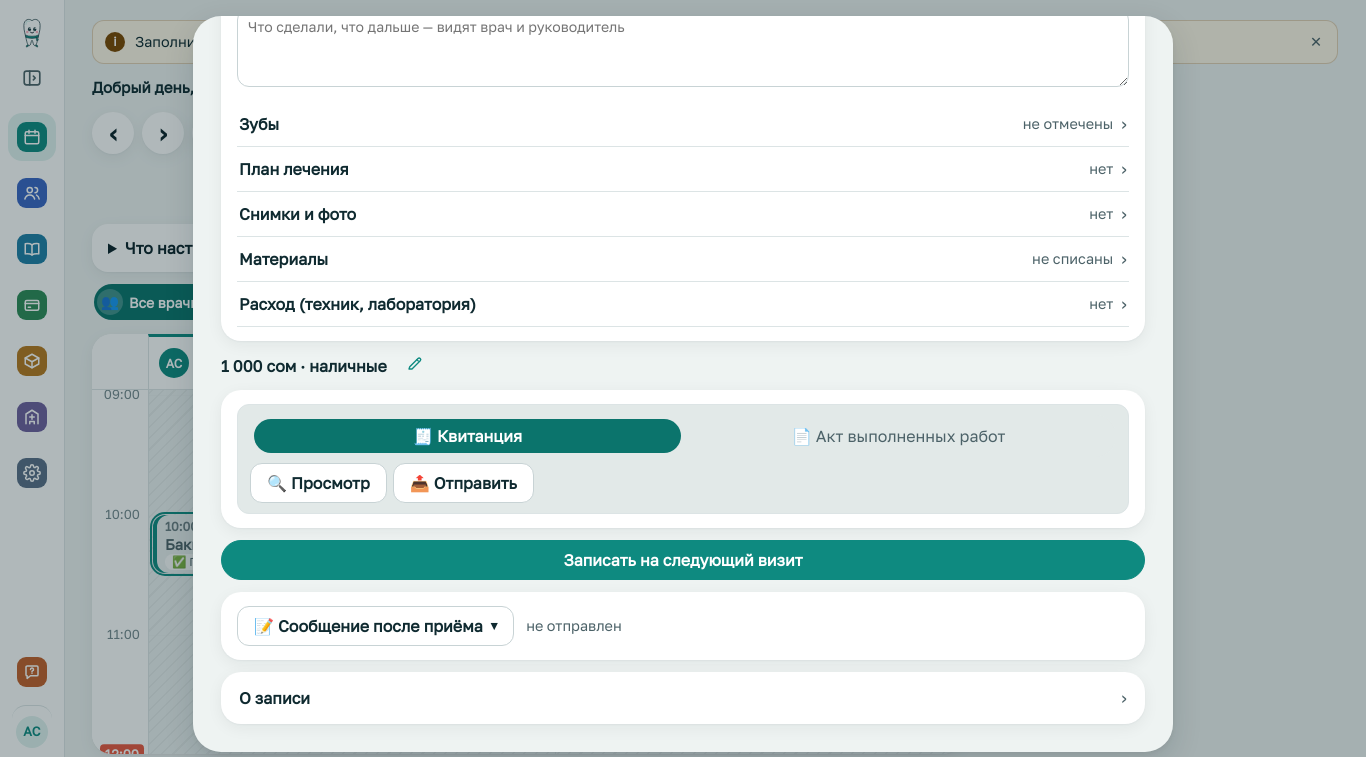
«Записать на следующий визит»: в этот день свободного нет — первое свободное в следующие дни
Earlier steps of the test are not shown.
(page scrolled)
Click the button "Записать на следующий визит" at (683, 560), box [221, 540, 1145, 580]
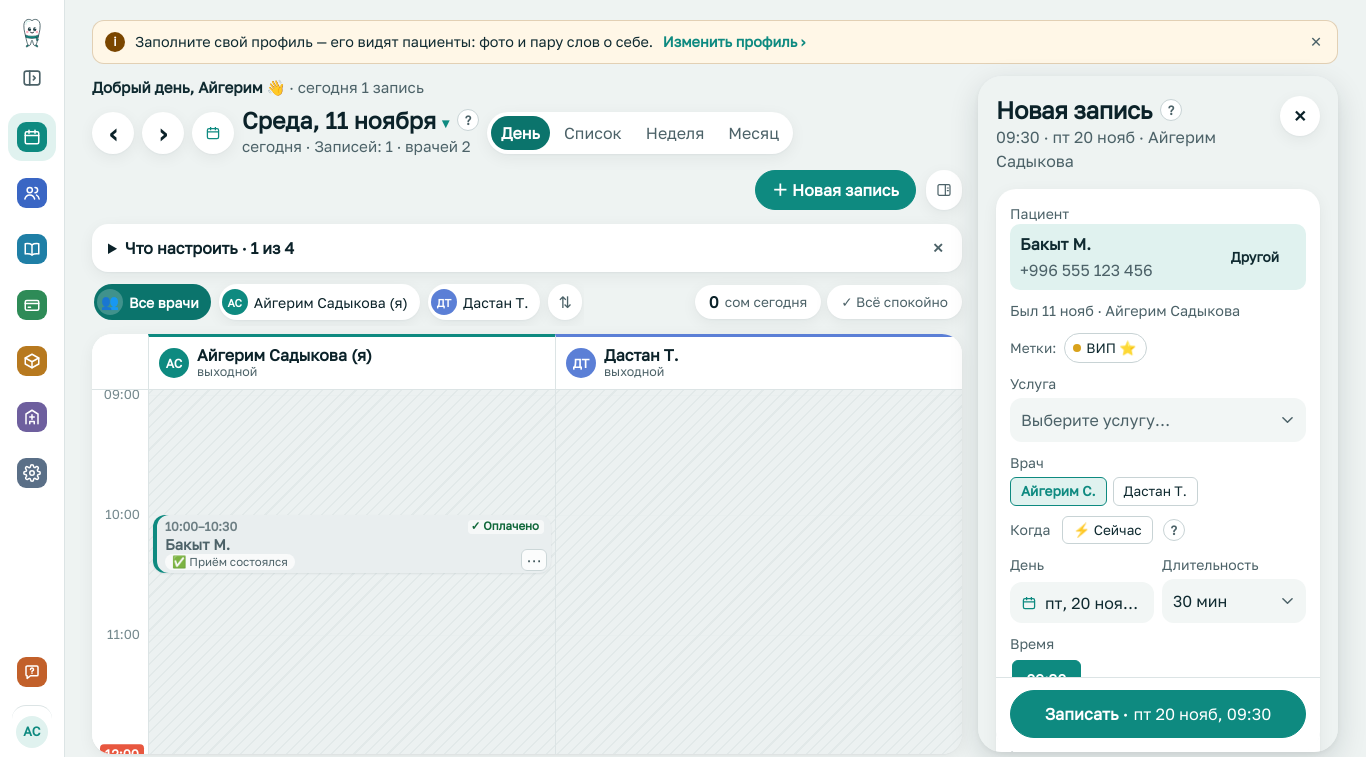
Result: the button "Айгерим С." is shown at [1010, 477, 1107, 506]
